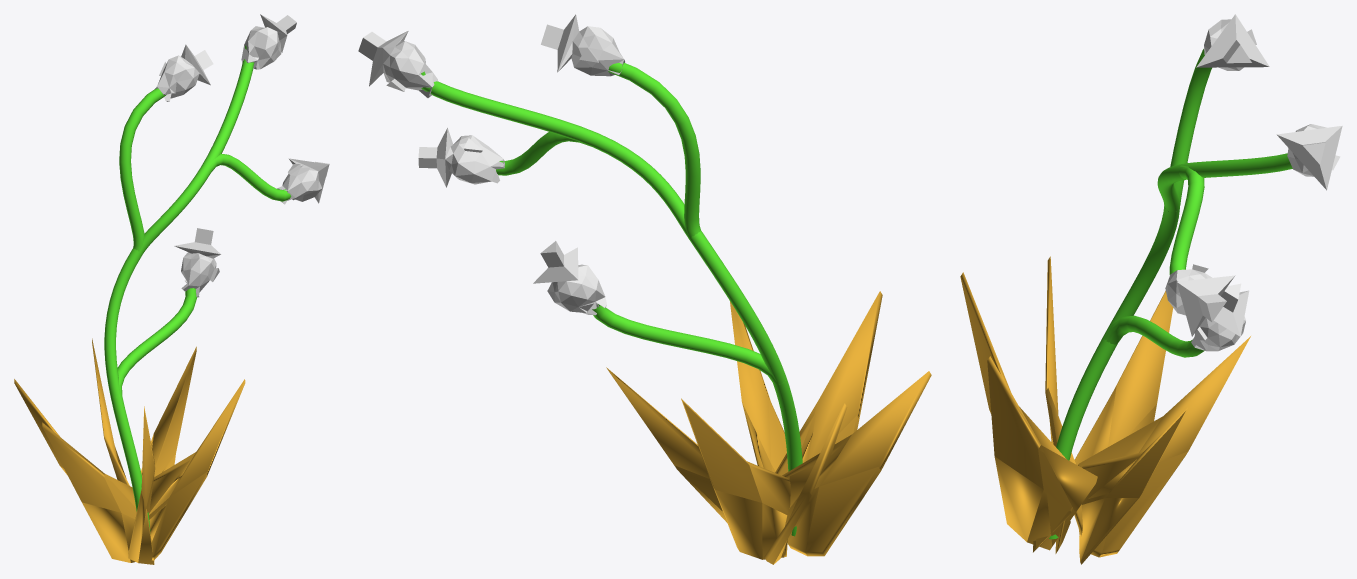
Rendered from BellFlower_EM.fbx.
The picture shows the model from 3 angles, left to right: view 1: azimuth 30°, elevation 25°; view 2: azimuth 150°, elevation 25°; view 3: azimuth 270°, elevation 25°; orthographic projection. The views are drawn at different scales.
Parts seen in each view (by area): view 1: BellFlower_EM; view 2: BellFlower_EM; view 3: BellFlower_EM.
Part boxes in pixels (<box>): BellFlower_EM: <box>14,14,329,564</box>; BellFlower_EM: <box>358,14,931,564</box>; BellFlower_EM: <box>960,14,1342,564</box>.
Size of the model in its own units: 48.07 by 57.95 by 32.78.
